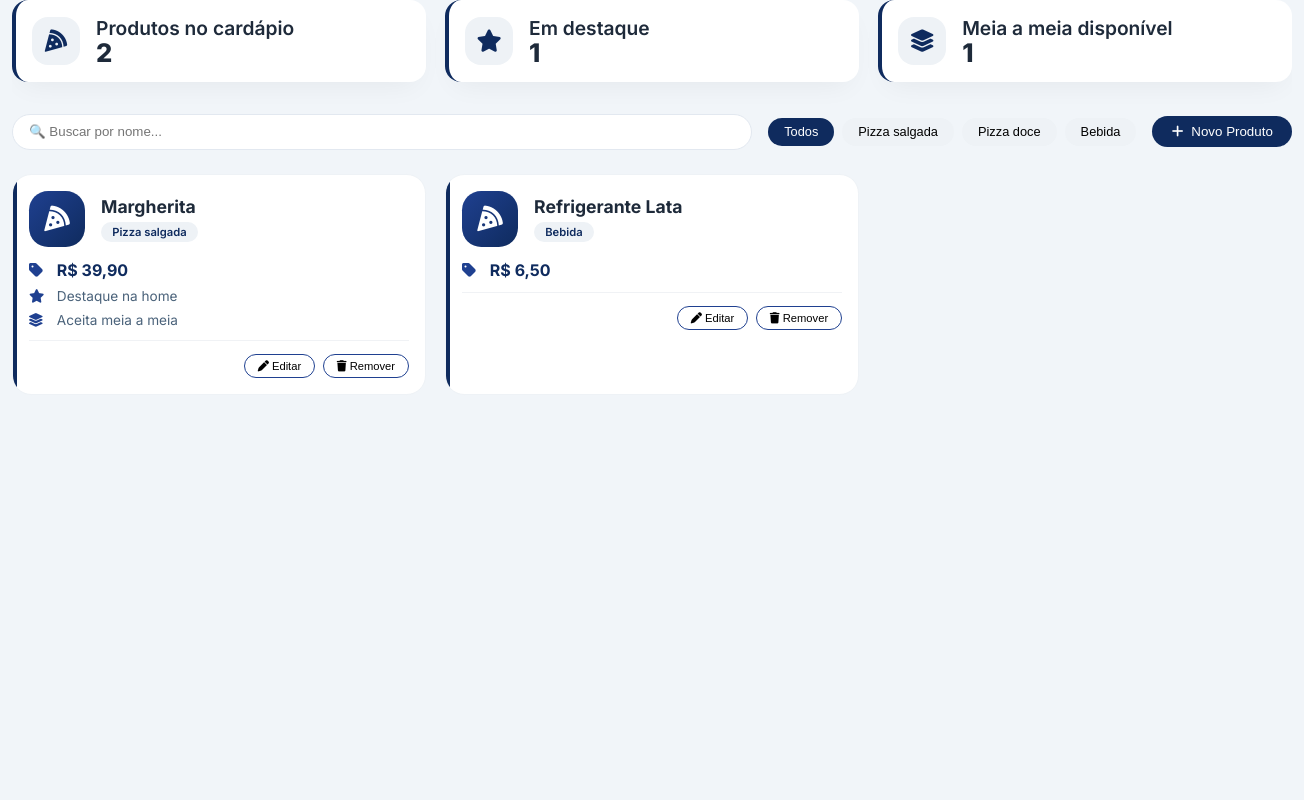
Test: ProductsSection (painel admin — cardápio) › remover produto: pede confirmação e só desativa se confirmado
Expected: the heading "Margherita" is shown, [101, 196, 198, 217]
What coordinates should you click on to do the following:
click the button "Remover" below "Aceita meia a meia"
I would click on:
 (366, 366)
Its box is [323, 354, 409, 378].
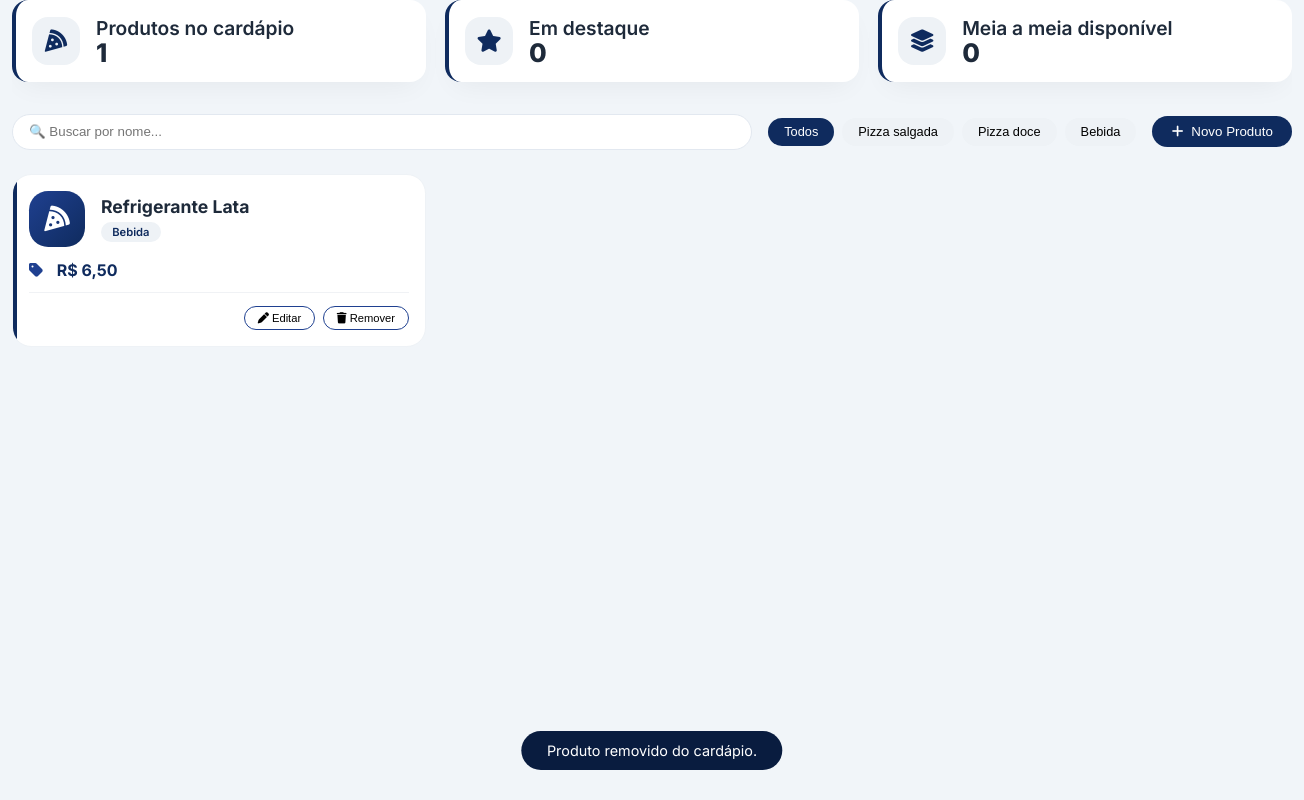
Expected: the text "Produto removido do cardápio." is shown, [521, 731, 783, 770]
